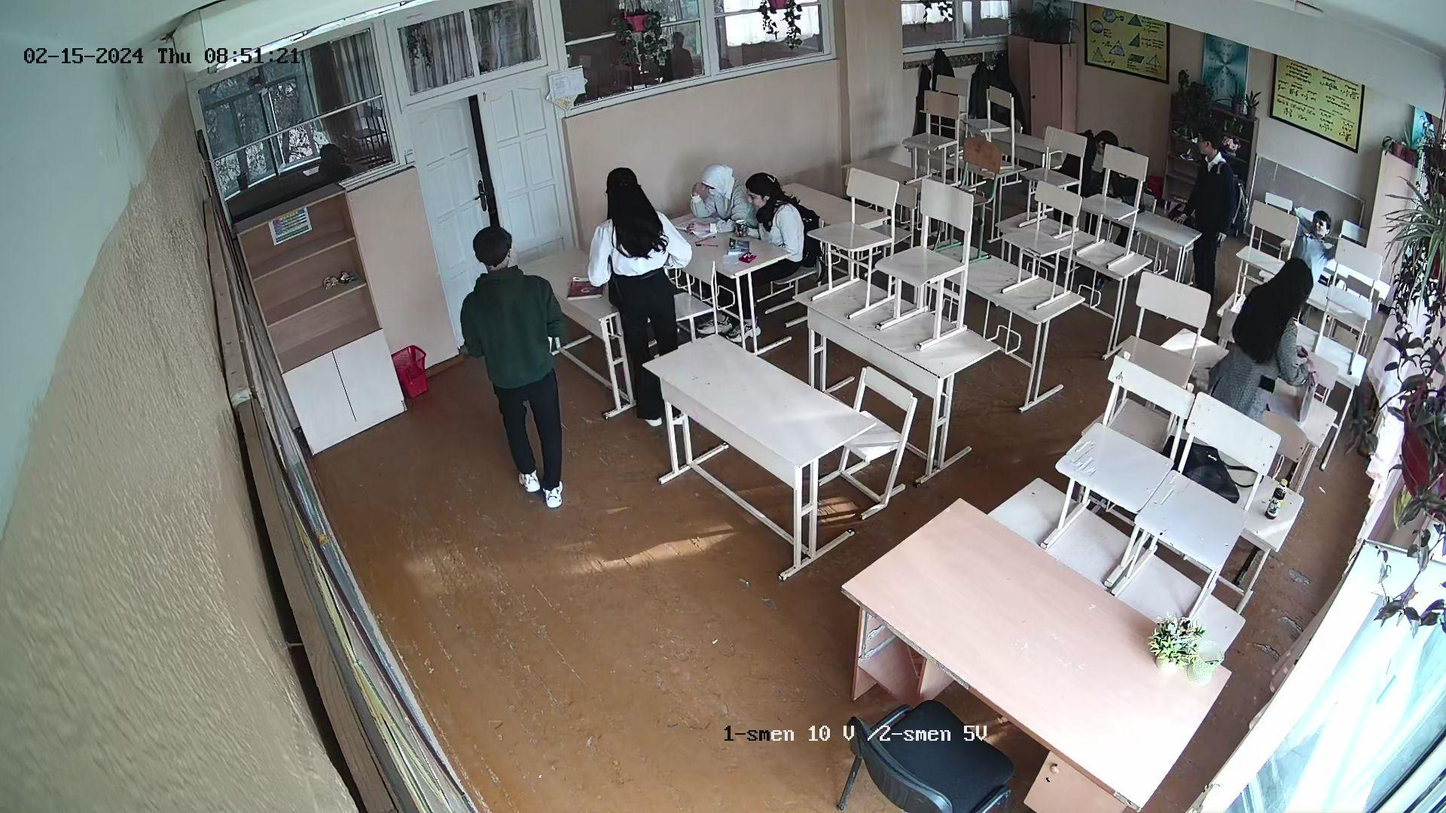Hand Under Table: (776, 210, 804, 264)
Normal: (691, 167, 731, 234)
Stand Up: (450, 224, 572, 513), (589, 163, 687, 399), (1182, 122, 1240, 298), (1247, 268, 1307, 416)
